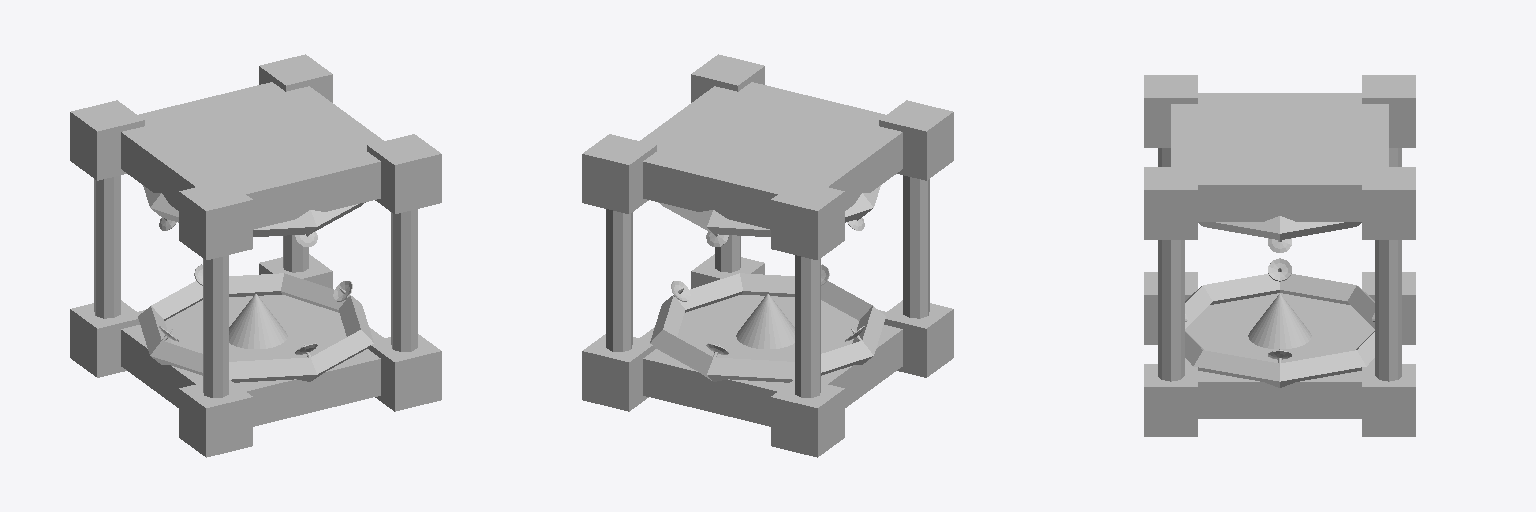
File: Implosion_SCU_base.obj
The picture shows the model from 3 angles: view 1: azimuth 30°, elevation 25°; view 2: azimuth 150°, elevation 25°; view 3: azimuth 270°, elevation 25°; orthographic projection.
Visible parts, largest first — view 1: Cube.001_Cube.011; view 2: Cube.001_Cube.011; view 3: Cube.001_Cube.011.
Part boxes in pixels (x1,y1,x2,y2): Cube.001_Cube.011: (70,54,441,457); Cube.001_Cube.011: (582,54,953,457); Cube.001_Cube.011: (1144,75,1415,436).
Bounding box in the file's own units: 5 × 5 × 5.